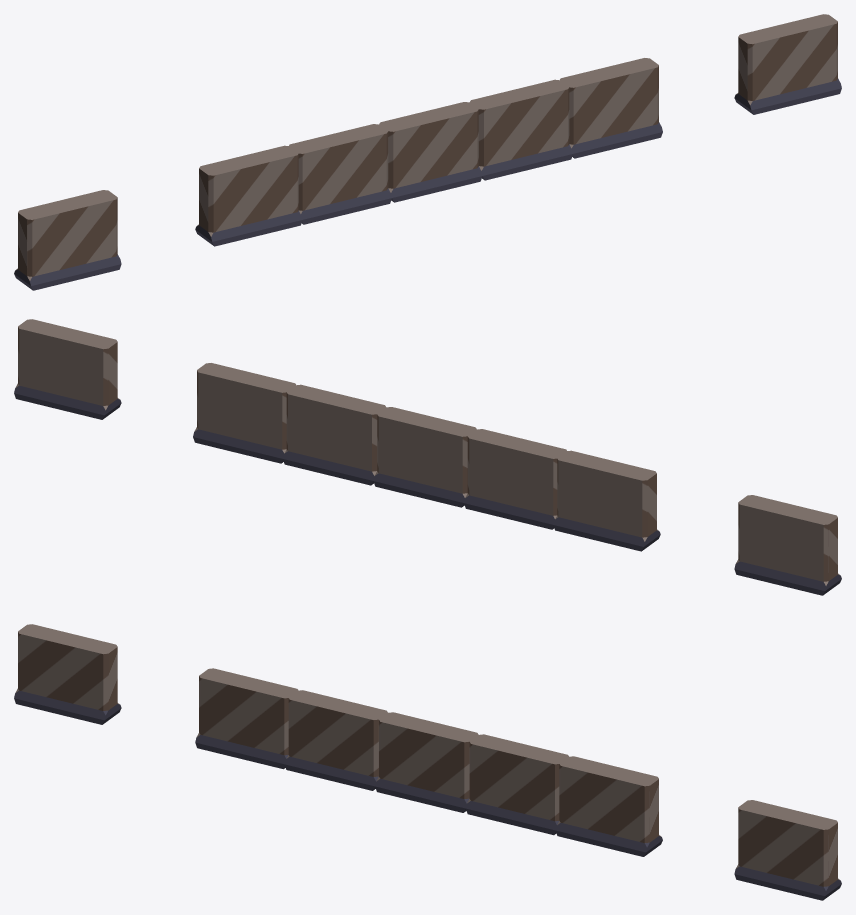
The model's file is ChurchWall1.fbx.
3 renders of one model, top to bottom at view 1: azimuth 30°, elevation 25°; view 2: azimuth 150°, elevation 25°; view 3: azimuth 330°, elevation 25°, orthographic.
Parts seen in each view (by area): view 1: Wall1; view 2: Wall1; view 3: Wall1.
Boxes of the visible parts, left/top/right/bottom form: Wall1: left=14, top=14, right=841, bottom=290; Wall1: left=14, top=319, right=841, bottom=595; Wall1: left=14, top=624, right=841, bottom=900.
Size of the model in its own units: 35.8 by 3 by 1.32.
3 materials, 1 textured.
